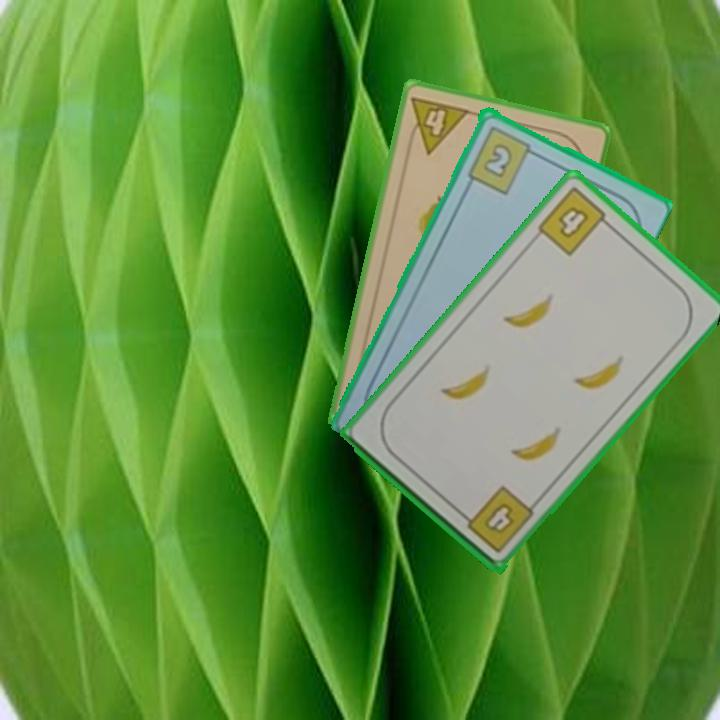2b: (464, 121, 541, 196)
4b: (534, 183, 616, 259), (456, 481, 537, 556)
4p: (402, 92, 473, 157)
